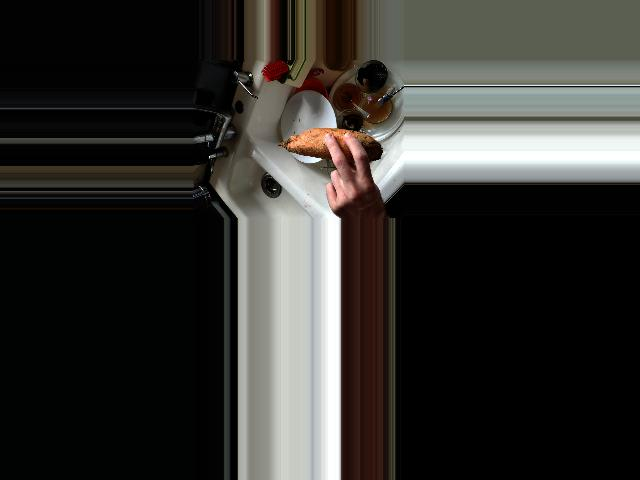sweet_potato: (273, 129, 386, 167)
